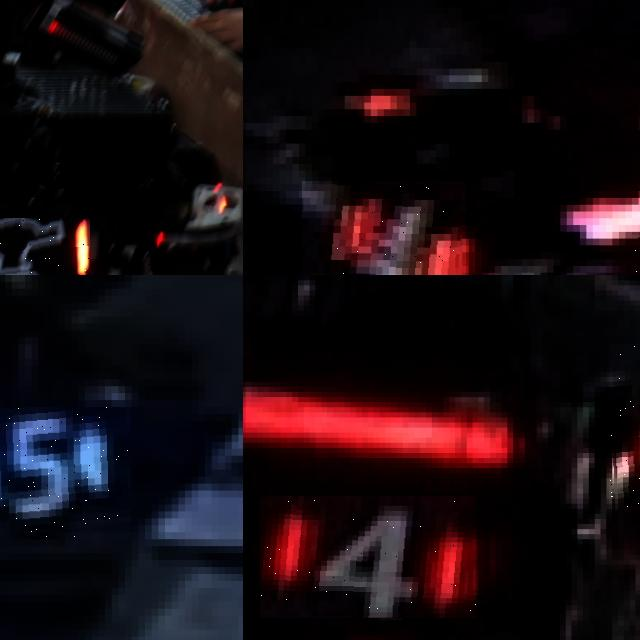B5: (0, 407, 131, 539)
R4: (260, 496, 476, 618), (302, 181, 465, 275), (609, 343, 640, 511)
Rs: (0, 218, 90, 275)
